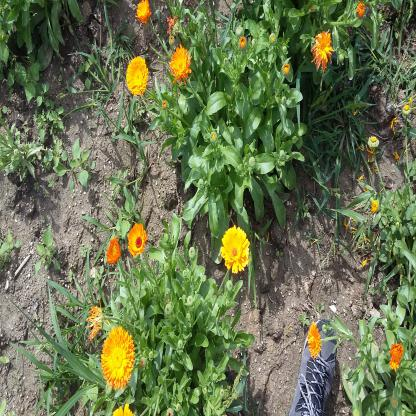marigold: (101, 328, 134, 386), (221, 226, 251, 273), (126, 54, 148, 94), (171, 46, 190, 76), (129, 224, 146, 254), (316, 32, 331, 66), (308, 321, 323, 354)
